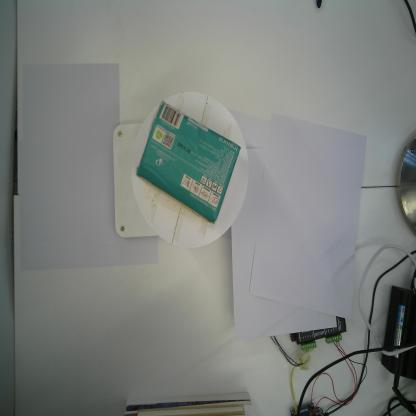Tissue: (136, 98, 242, 228)
